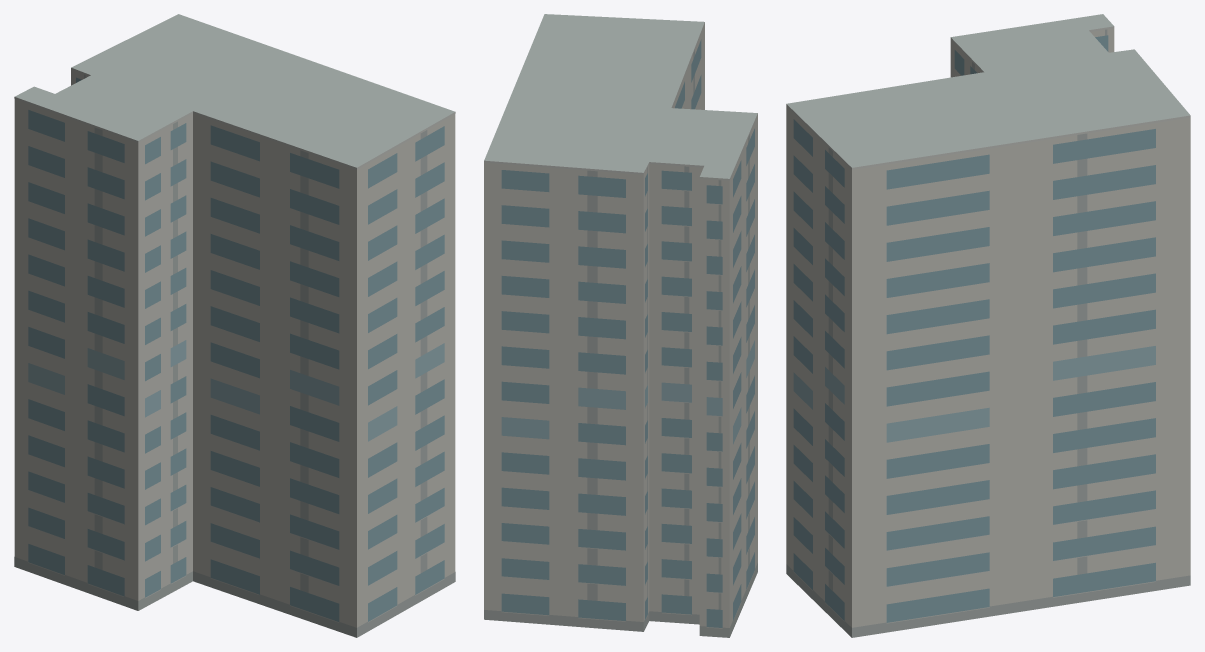
The model's file is survey-upis-32767180.glb.
3 views of the same model, side by side, from view 1: azimuth 30°, elevation 25°; view 2: azimuth 150°, elevation 25°; view 3: azimuth 270°, elevation 25° (orthographic). The views are drawn at different scales.
Visible parts, largest first — view 1: survey-upis-32767180.tmp; view 2: survey-upis-32767180.tmp; view 3: survey-upis-32767180.tmp.
Part boxes in pixels (x1=…): survey-upis-32767180.tmp: x1=14, y1=14, x2=455, y2=637; survey-upis-32767180.tmp: x1=484, y1=14, x2=757, y2=637; survey-upis-32767180.tmp: x1=786, y1=14, x2=1190, y2=637.
Size of the model in its own units: 40.41 by 57.55 by 44.88.
